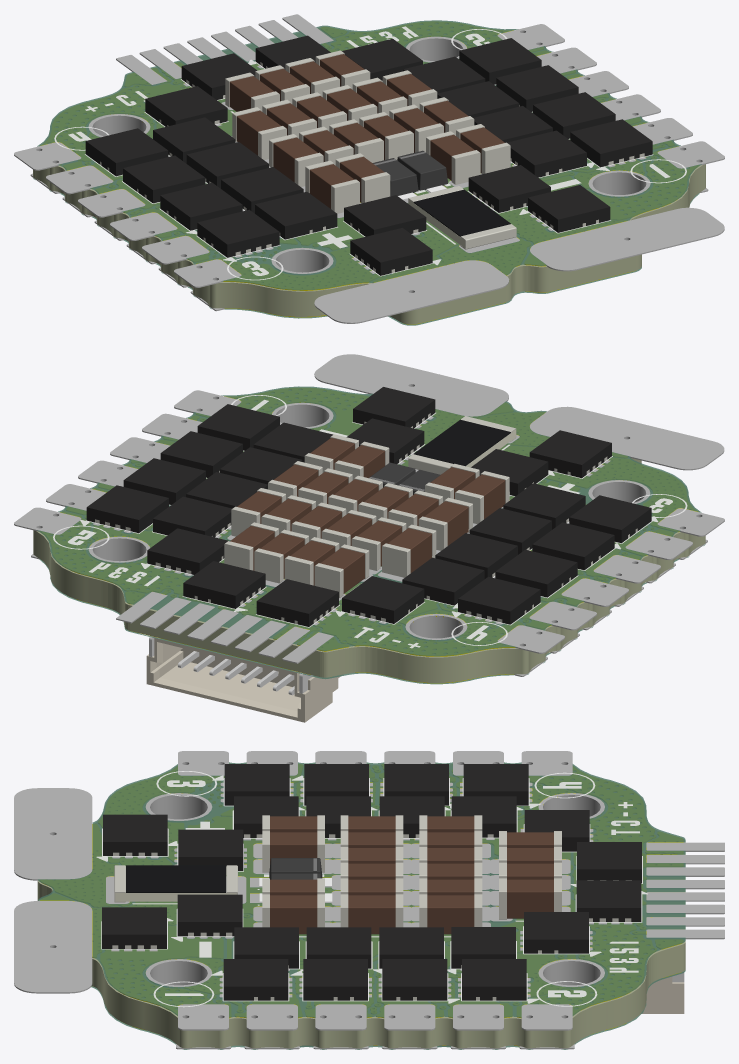
Rendered from esc3.glb.
The picture shows the model from 3 angles, top to bottom: view 1: azimuth 30°, elevation 25°; view 2: azimuth 150°, elevation 25°; view 3: azimuth 270°, elevation 25°; orthographic projection. The views are drawn at different scales.
Parts seen in each view (by area): view 1: Q20, =>[0:1:1:18], CL32, =>[0:1:1:22], =>[0:1:1:17], =>[0:1:1:24], =>[0:1:1:20], Rsense1, D1, =>[0:1:1:23]; view 2: Q20, =>[0:1:1:18], CL32, =>[0:1:1:22], =>[0:1:1:17], =>[0:1:1:24], J1, =>[0:1:1:20], Rsense1, D1, =>[0:1:1:23]; view 3: Q20, =>[0:1:1:18], =>[0:1:1:22], CL32, =>[0:1:1:17], =>[0:1:1:24], =>[0:1:1:20], Rsense1, J1, D1, =>[0:1:1:23].
Part boxes in pixels (x1,y1,x2,y2): Q20: [85, 35, 652, 275]; =>[0:1:1:18]: [14, 14, 724, 323]; CL32: [225, 50, 516, 249]; =>[0:1:1:22]: [37, 20, 701, 290]; =>[0:1:1:17]: [41, 22, 698, 324]; =>[0:1:1:24]: [33, 28, 705, 324]; =>[0:1:1:20]: [54, 26, 686, 280]; Rsense1: [408, 189, 510, 247]; D1: [372, 150, 448, 199]; =>[0:1:1:23]: [33, 178, 699, 325]; Q20: [86, 387, 651, 626]; =>[0:1:1:18]: [14, 354, 724, 676]; CL32: [224, 416, 516, 597]; =>[0:1:1:22]: [37, 386, 701, 656]; =>[0:1:1:17]: [40, 388, 697, 683]; =>[0:1:1:24]: [33, 393, 705, 682]; J1: [146, 636, 341, 722]; =>[0:1:1:20]: [53, 395, 687, 648]; Rsense1: [414, 419, 515, 467]; D1: [369, 462, 440, 494]; =>[0:1:1:23]: [39, 544, 705, 684]; Q20: [102, 764, 641, 1000]; =>[0:1:1:18]: [14, 751, 724, 1049]; =>[0:1:1:22]: [38, 762, 685, 1017]; CL32: [114, 815, 561, 934]; =>[0:1:1:17]: [40, 764, 683, 1046]; =>[0:1:1:24]: [37, 764, 685, 1048]; =>[0:1:1:20]: [96, 771, 647, 1007]; Rsense1: [115, 865, 236, 901]; J1: [641, 972, 684, 1013]; D1: [259, 858, 332, 1046]; =>[0:1:1:23]: [91, 970, 685, 1049].
Size of the model in its own units: 0.0335 by 0.00627 by 0.0362.
